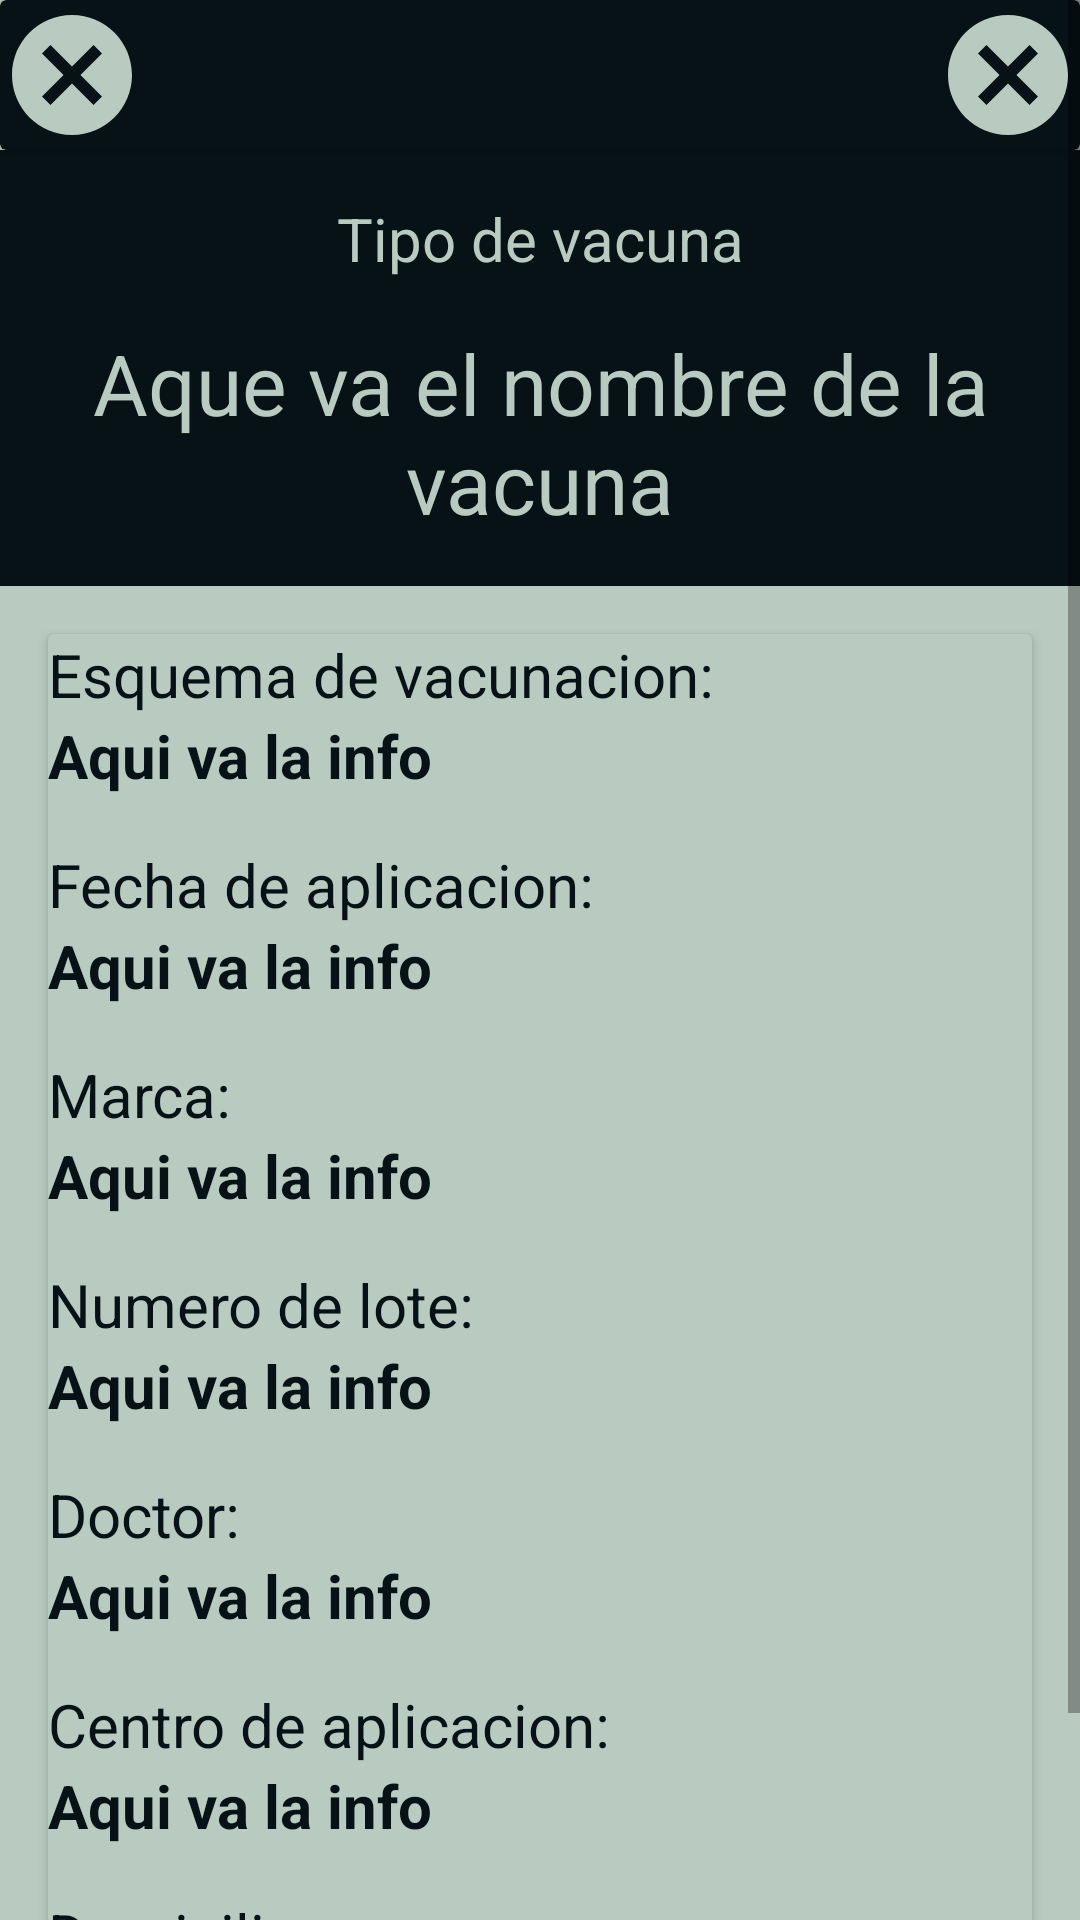

Icons on this 1080w x 1920h Android screen, each with its box as rect(x1, y1, x2, y2):
cancel: rect(0, 0, 132, 150), rect(948, 0, 1080, 150)
